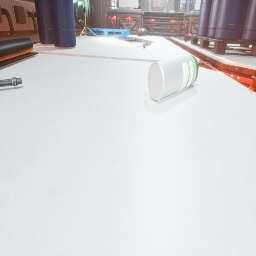0: (147, 55, 199, 101), (209, 42, 214, 44)
EmergencyPhone ,: (92, 5, 94, 12)
FireExtinguisher ]: (184, 31, 192, 42)
FirstAidBox ,: (134, 4, 141, 9)
NitrogenTank ,: (136, 28, 147, 36), (169, 10, 175, 12)
